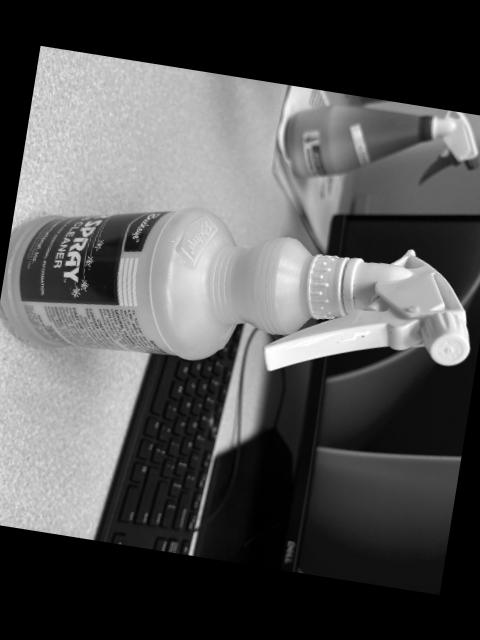StarSpray: (0, 207, 469, 370)
